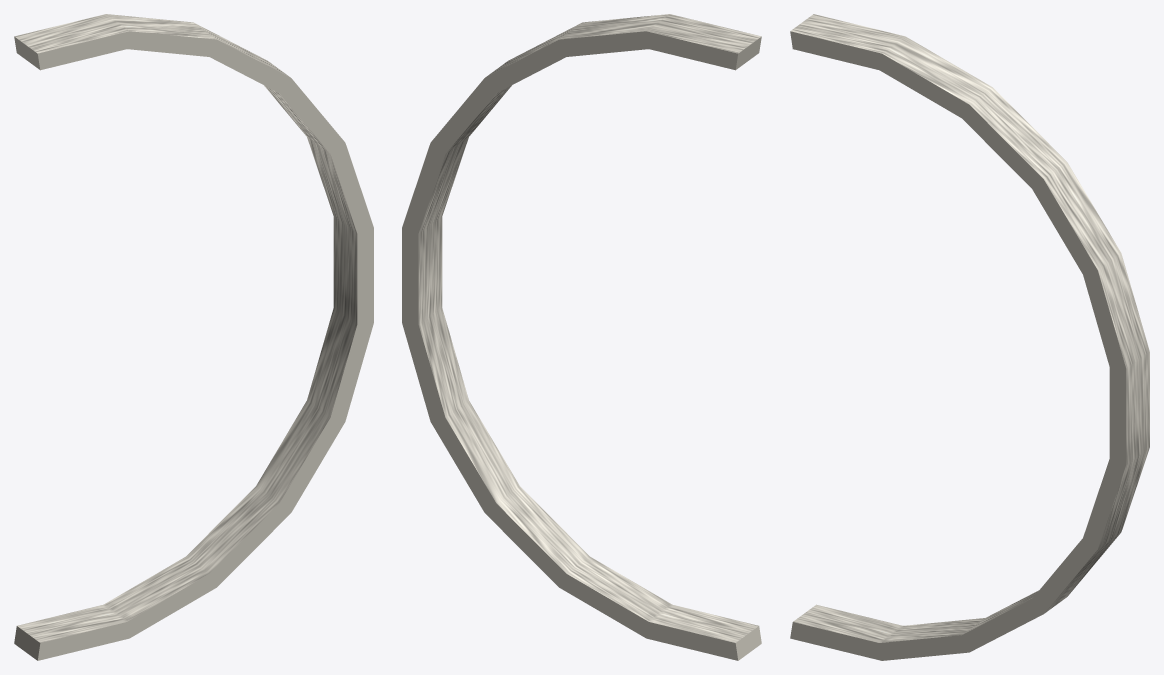
File: f_taihouring7.fbx
3 renders of one model, left to right at view 1: azimuth 30°, elevation 25°; view 2: azimuth 150°, elevation 25°; view 3: azimuth 330°, elevation 25°, orthographic.
Parts seen in each view (by area): view 1: f_taihou_ring3; view 2: f_taihou_ring3; view 3: f_taihou_ring3.
Part boxes in pixels (<box>): f_taihou_ring3: <box>14,14,373,660</box>; f_taihou_ring3: <box>402,14,761,660</box>; f_taihou_ring3: <box>790,14,1149,660</box>.
Size of the model in its own units: 153 by 264 by 18.56.
1 material, 1 textured.
